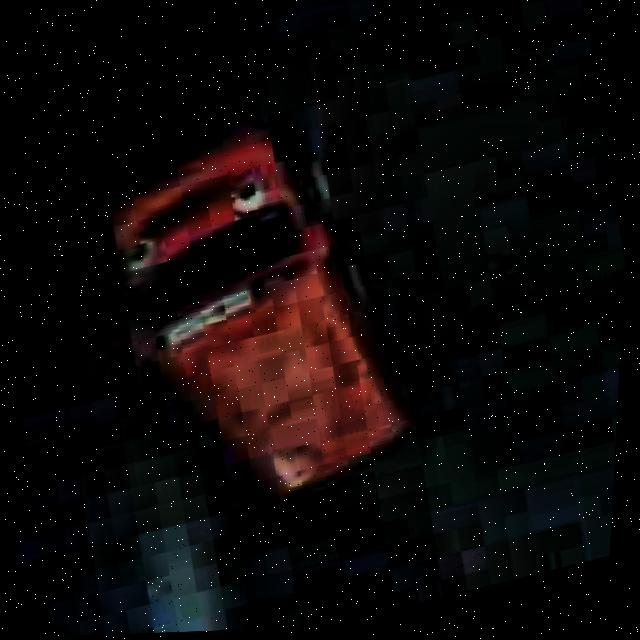bus: (62, 72, 450, 551)
